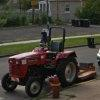Tractor: (5, 31, 84, 93)
